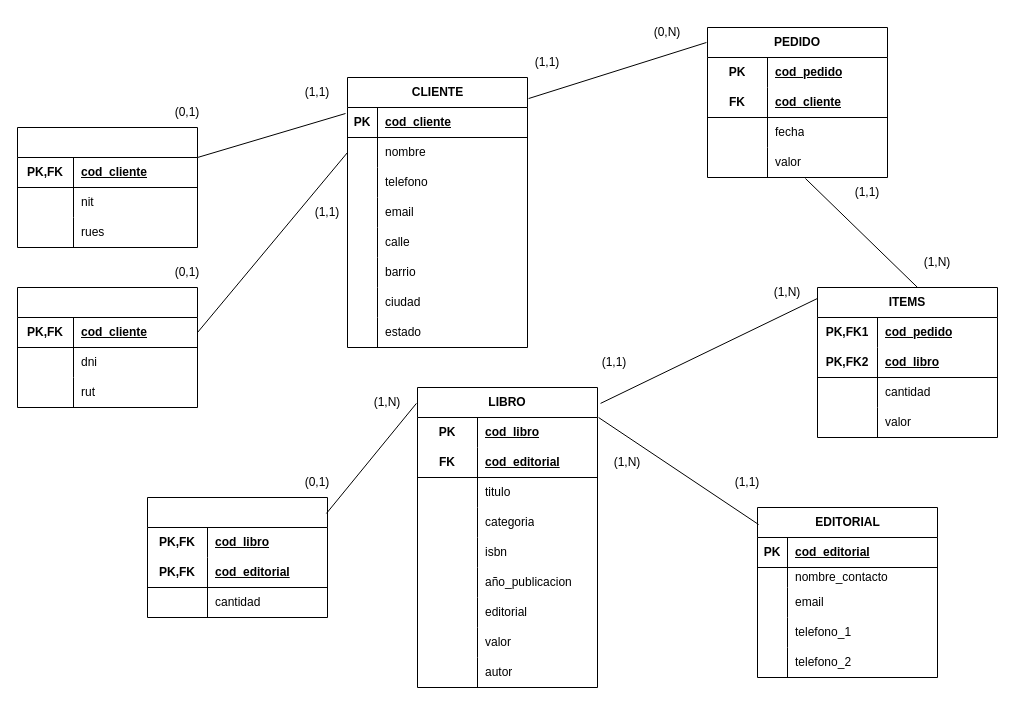
Image size: 1015x705. Some labels were removed from this diagram. Each missing label, with the box of its shape:
INVENTARIO: (146, 496, 328, 618)
PJ: (16, 126, 198, 248)
PN: (16, 286, 198, 408)
